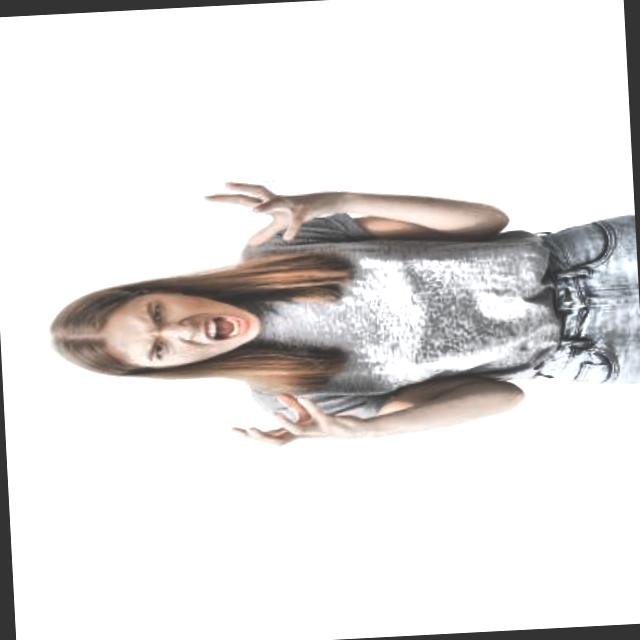angry: (59, 283, 275, 383)
